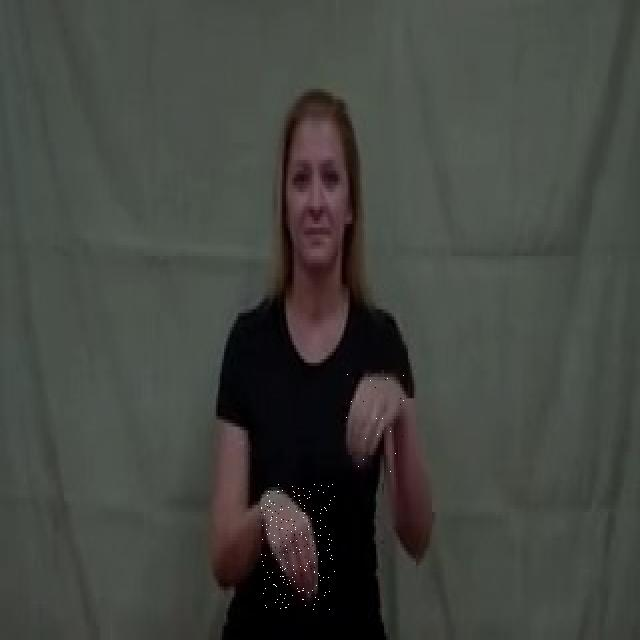ingredients: (262, 484, 336, 612), (344, 371, 404, 482)
